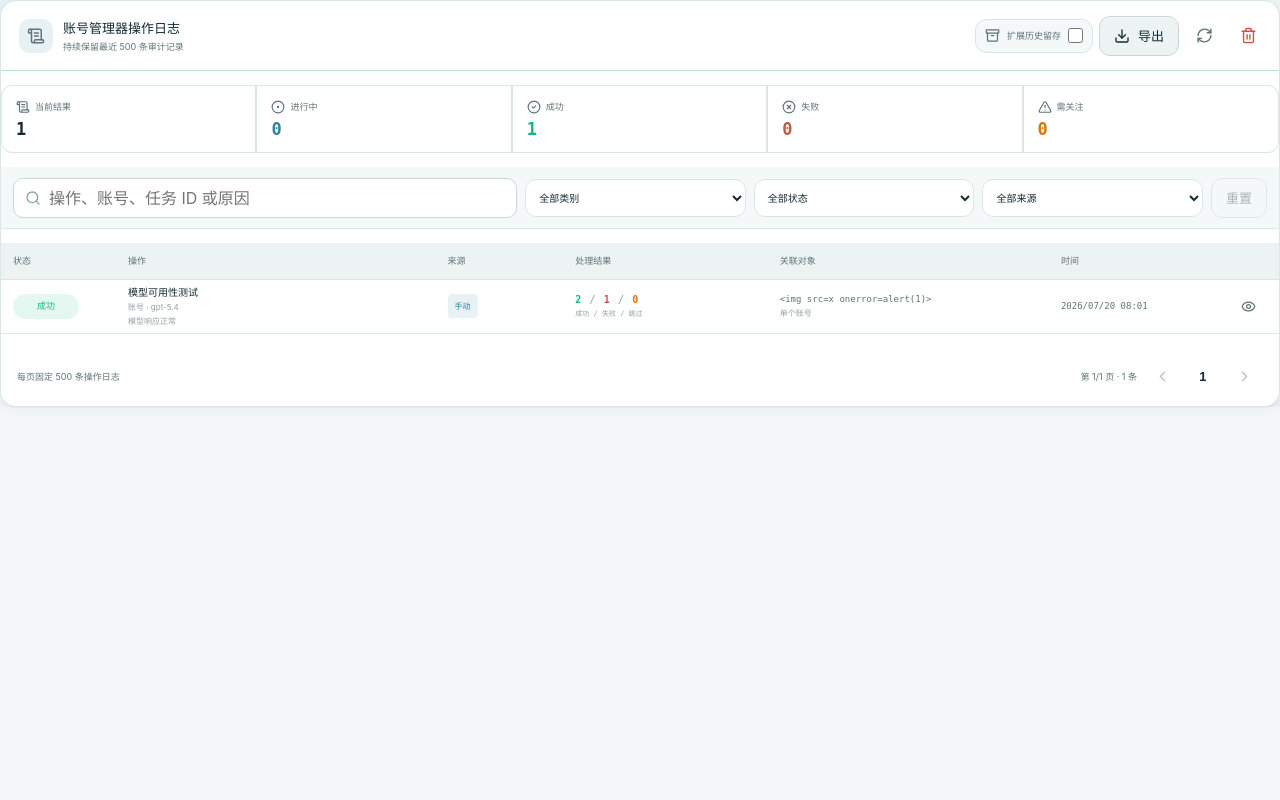
it: OperationLogWorkspace › shows model-test actions and reasons in Chinese while preserving the technical model ID
This screenshot has width=1280, height=800.
Expected: the text "模型可用性测试" is shown, x1=128 y1=286 x2=198 y2=298
Expected: the text "账号 · gpt-5.4" is shown, x1=128 y1=302 x2=179 y2=312
Click the button named "查看操作详情": x=1248, y=306 x1=1229 y1=287 x2=1267 y2=325
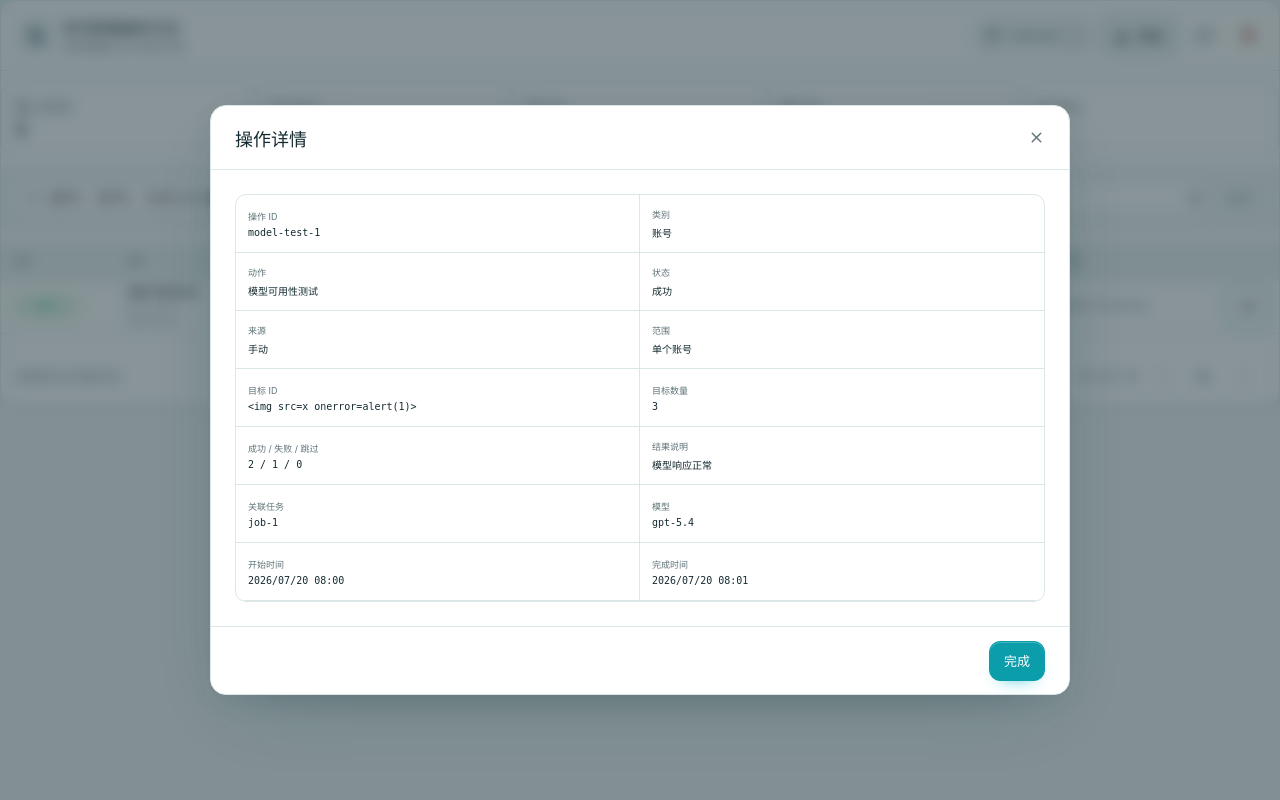
Now the text "模型响应正常" is shown, box x1=652 y1=460 x2=712 y2=470
